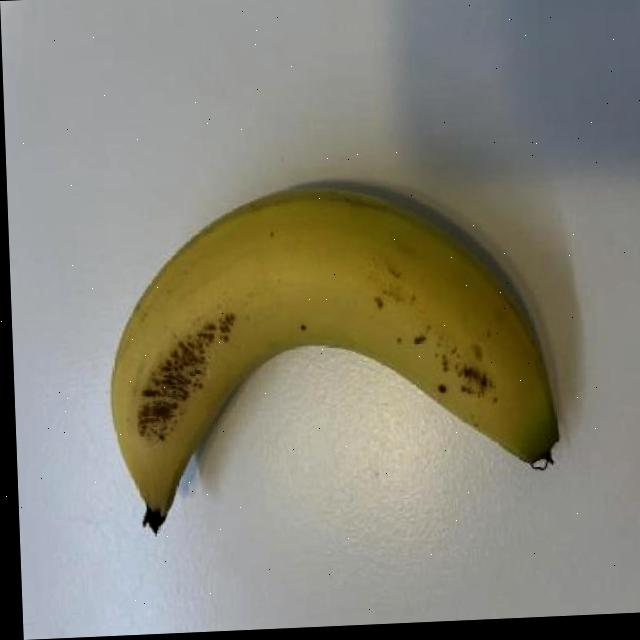banana: (96, 173, 568, 541)
